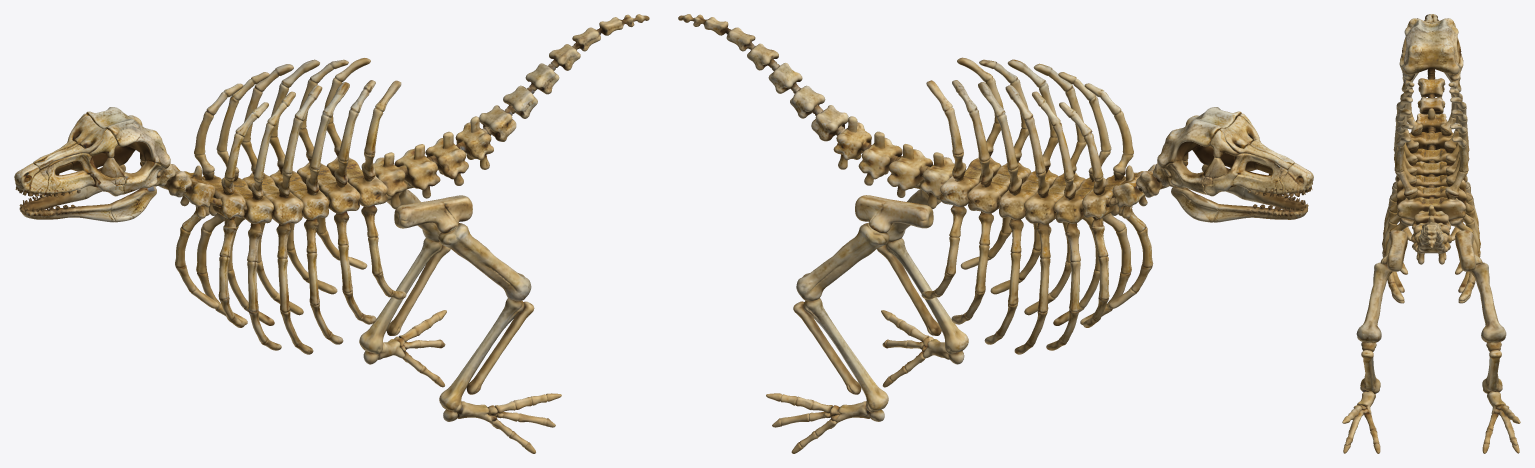
The model's file is b17-tripo-original.glb.
3 views of the same model, side by side, from view 1: azimuth 30°, elevation 25°; view 2: azimuth 150°, elevation 25°; view 3: azimuth 270°, elevation 25° (orthographic). The views are drawn at different scales.
Parts seen in each view (by area): view 1: tripo_node_fa28ea49-16ee-47d6-9047-f698c8bf1f46; view 2: tripo_node_fa28ea49-16ee-47d6-9047-f698c8bf1f46; view 3: tripo_node_fa28ea49-16ee-47d6-9047-f698c8bf1f46.
Boxes of the visible parts, <box> form: tripo_node_fa28ea49-16ee-47d6-9047-f698c8bf1f46: <box>14,14,649,453</box>; tripo_node_fa28ea49-16ee-47d6-9047-f698c8bf1f46: <box>678,14,1313,453</box>; tripo_node_fa28ea49-16ee-47d6-9047-f698c8bf1f46: <box>1342,14,1520,453</box>.
Bounding box in the file's own units: 0.9786 × 0.5699 × 0.3121.
1 material, 1 textured.
